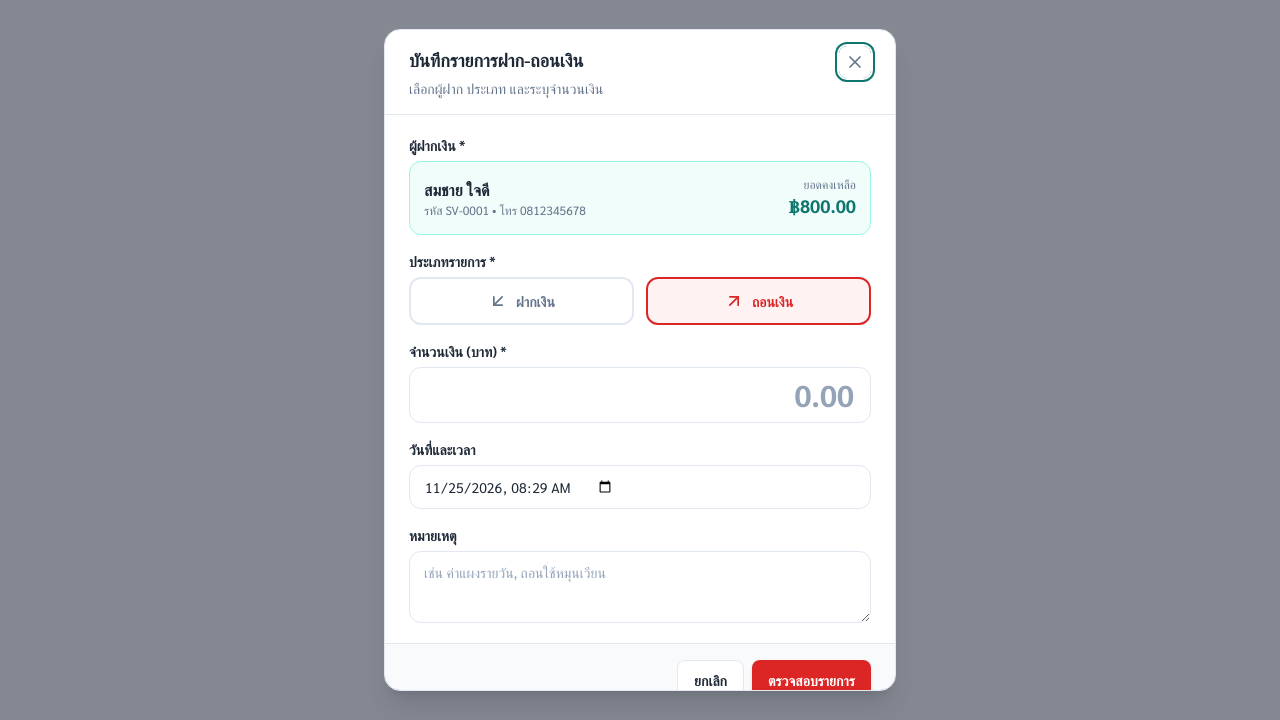
Test: TransactionModal workflow › shows over-withdrawal warning and disables submit when withdraw exceeds balance
The width and height of the screenshot is (1280, 720).
Step 1. Type "900" into the field labelled "จำนวนเงิน (บาท) *" → coordinates (640, 395), box [409,367,871,423]
(page scrolled)
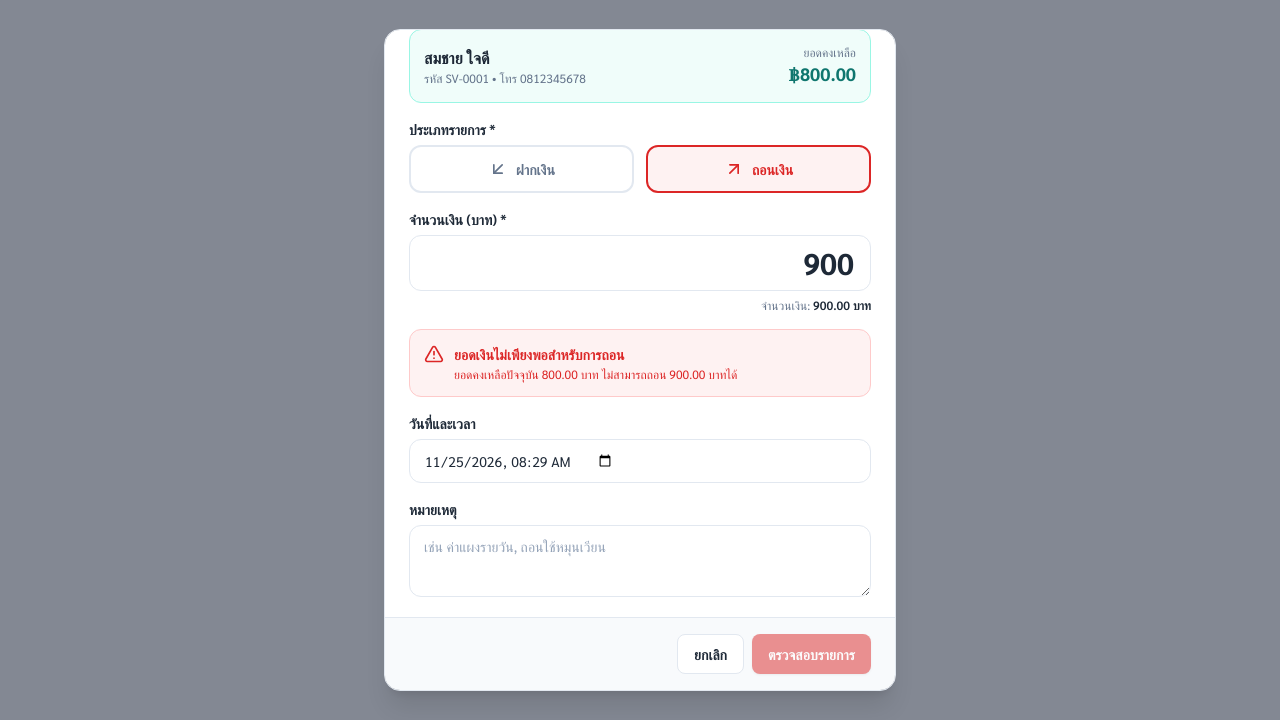
Expected: the text "ยอดเงินไม่เพียงพอสำหรับการถอน" is shown, [454,345,624,363]
Expected: the button "ตรวจสอบรายการ" is disabled, [752,634,871,674]
